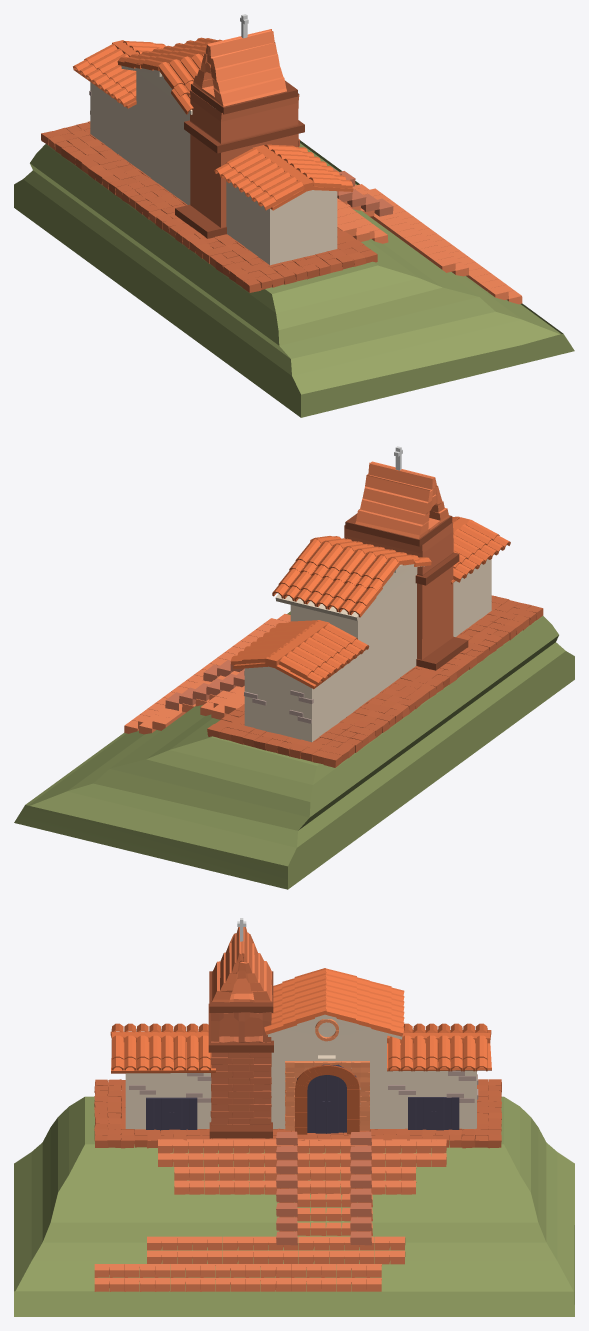
Rendered from iglesia.glb.
3 views of the same model, one above another, from view 1: azimuth 30°, elevation 25°; view 2: azimuth 150°, elevation 25°; view 3: azimuth 270°, elevation 25° (orthographic). The views are drawn at different scales.
Parts seen in each view (by area): view 1: CESPED, EDIFICIOS, ESCALERAS.002, TEJAS, TORRE, ESCALERAS, TORRE.001, DETALLES TORRE, ESCALERAS.001; view 2: CESPED, EDIFICIOS, TEJAS, ESCALERAS.002, TORRE.001, TORRE, ESCALERAS, DETALLES TORRE, ESCALERAS.001; view 3: CESPED, ESCALERAS, TEJAS, EDIFICIOS, ESCALERAS.002, PUERTAS, TORRE, ESCALERAS.001, DETALLES TORRE, TORRE.001, DETALLES PUERTA, ARCO ÚIERTA (+1 smaller).
Part boxes in pixels (x1,y1,x2,y2): CESPED: [14, 140, 574, 417]; EDIFICIOS: [90, 65, 337, 265]; ESCALERAS.002: [41, 121, 377, 292]; TEJAS: [73, 37, 353, 210]; TORRE: [190, 90, 300, 227]; ESCALERAS: [337, 184, 522, 304]; TORRE.001: [193, 29, 286, 106]; DETALLES TORRE: [175, 80, 304, 238]; ESCALERAS.001: [332, 167, 393, 216]; CESPED: [14, 611, 574, 889]; EDIFICIOS: [244, 546, 491, 742]; TEJAS: [230, 516, 510, 689]; ESCALERAS.002: [207, 595, 543, 767]; TORRE.001: [355, 461, 449, 538]; TORRE: [344, 522, 453, 659]; ESCALERAS: [124, 614, 290, 734]; DETALLES TORRE: [345, 513, 468, 670]; ESCALERAS.001: [165, 660, 244, 710]; CESPED: [14, 1096, 574, 1316]; ESCALERAS: [94, 1139, 446, 1291]; TEJAS: [110, 968, 491, 1073]; EDIFICIOS: [125, 1014, 476, 1129]; ESCALERAS.002: [94, 1079, 501, 1148]; PUERTAS: [146, 1064, 459, 1133]; TORRE: [210, 1012, 271, 1125]; ESCALERAS.001: [276, 1131, 371, 1245]; DETALLES TORRE: [208, 971, 273, 1138]; TORRE.001: [211, 927, 272, 1002]; DETALLES PUERTA: [285, 1019, 370, 1130]; ARCO ÚIERTA: [295, 1065, 359, 1134].
Size of the model in its own units: 26.87 by 27.33 by 46.96.
